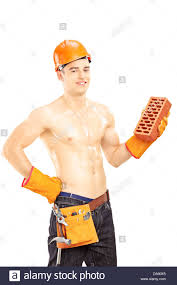Person_wearing_helmet: (50, 32, 94, 77)
